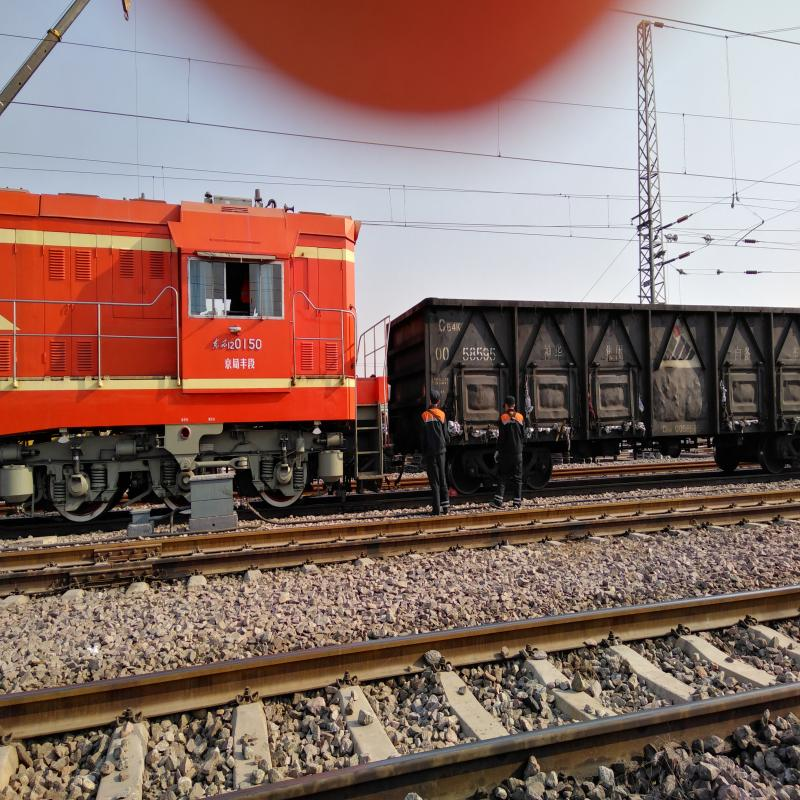train: (2, 191, 366, 510), (399, 303, 796, 471)
